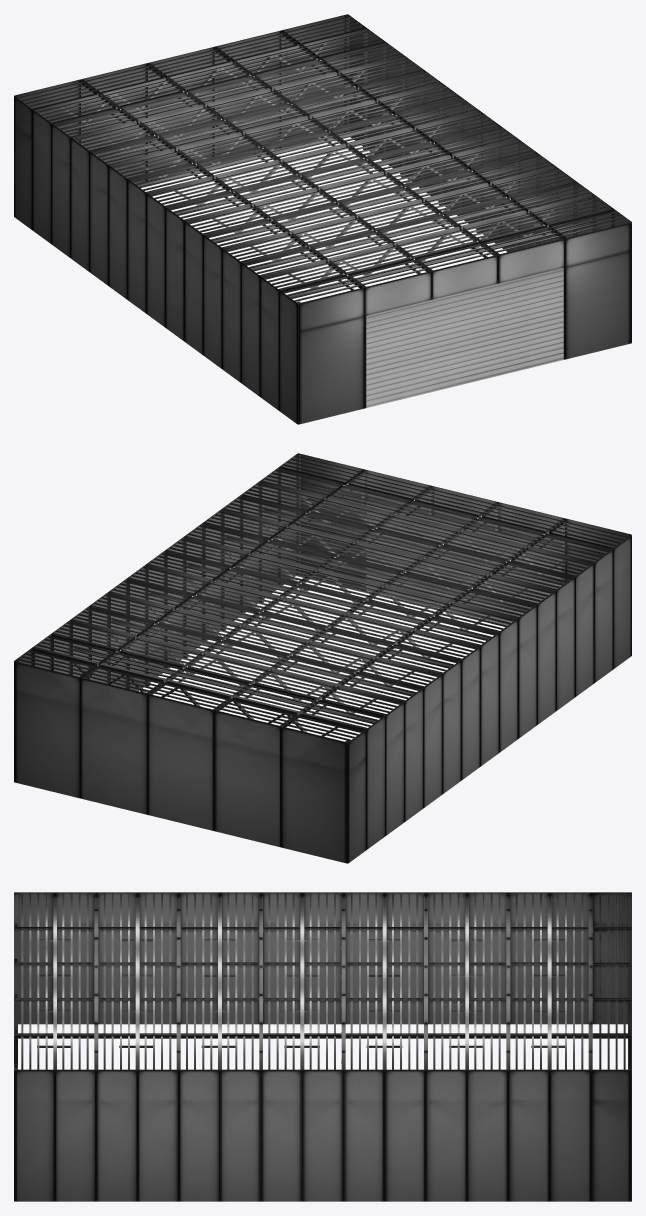
The model's file is warehouse.glb.
The picture shows the model from 3 angles, top to bottom: view 1: azimuth 30°, elevation 25°; view 2: azimuth 150°, elevation 25°; view 3: azimuth 270°, elevation 25°; orthographic projection. The views are drawn at different scales.
Visible parts, largest first — view 1: Blender249; view 2: Blender249; view 3: Blender249.
Part boxes in pixels (x1,y1,x2,y2): Blender249: (14, 14, 631, 424); Blender249: (14, 453, 631, 863); Blender249: (14, 892, 631, 1201).
Size of the model in its own units: 115 by 40 by 170.
9 materials, 9 textured.
